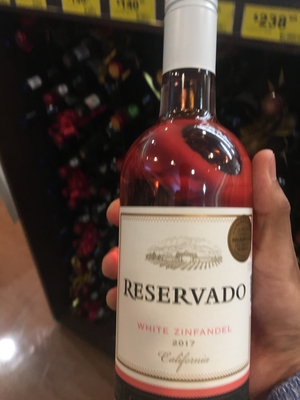reservado white zinfandel: (104, 20, 274, 400)
